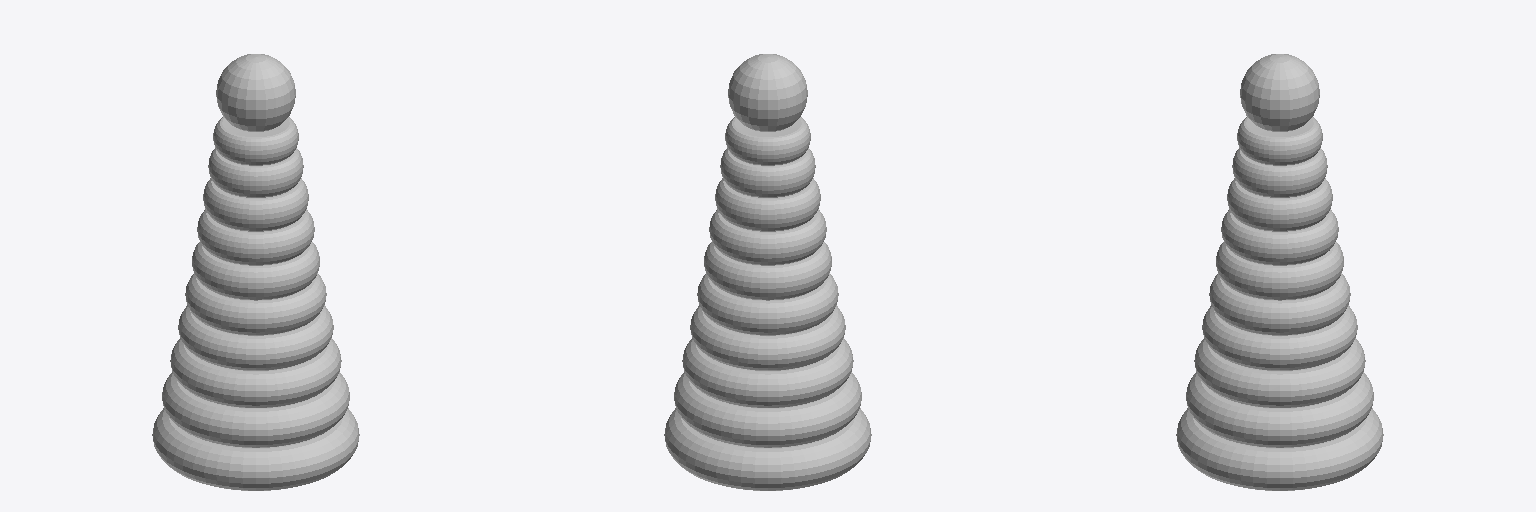
The model's file is Brinquedo_2.obj.
3 views of the same model, side by side, from view 1: azimuth 30°, elevation 25°; view 2: azimuth 150°, elevation 25°; view 3: azimuth 270°, elevation 25° (orthographic).
Parts seen in each view (by area): view 1: toy01:Default; view 2: toy01:Default; view 3: toy01:Default.
Boxes of the visible parts, <box> form: toy01:Default: <box>152,54,359,490</box>; toy01:Default: <box>664,54,871,490</box>; toy01:Default: <box>1176,54,1383,490</box>.
Size of the model in its own units: 0.1958 by 0.4142 by 0.1958.